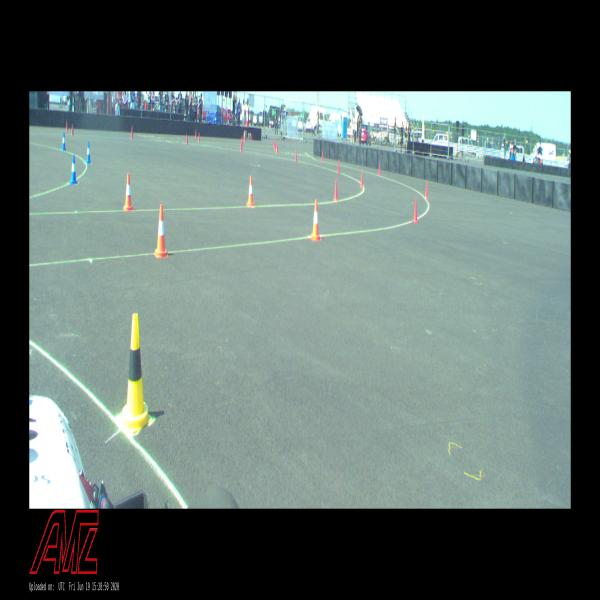blue_cone: (70, 154, 77, 184), (85, 140, 92, 165), (62, 132, 66, 151)
orange_cone: (154, 204, 169, 259), (310, 198, 322, 242), (123, 173, 133, 212), (246, 175, 254, 207)
unknown_cone: (412, 196, 418, 223), (333, 178, 338, 202), (424, 180, 428, 198), (360, 170, 363, 189), (337, 159, 340, 174), (378, 162, 381, 177), (71, 123, 74, 136), (185, 133, 188, 145), (321, 150, 324, 162), (131, 125, 133, 140), (295, 149, 297, 162), (66, 120, 68, 132), (240, 139, 242, 151), (198, 132, 200, 143), (276, 143, 278, 154), (195, 129, 197, 139), (273, 138, 275, 148), (274, 141, 276, 151), (242, 136, 243, 146)
yellow_cone: (115, 312, 153, 434)
